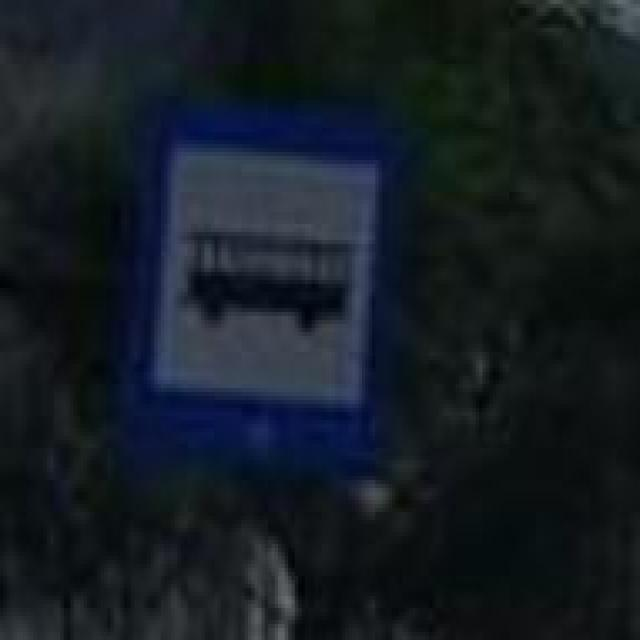traffic sign: (117, 108, 398, 484)
